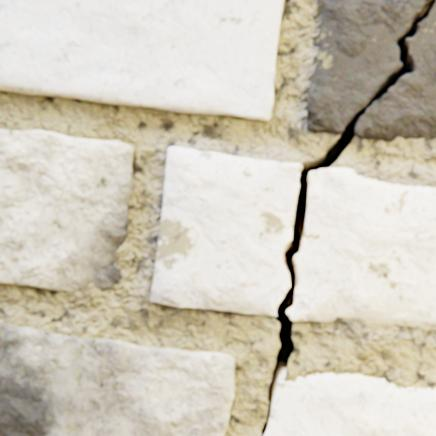brick: (0, 0, 283, 121), (0, 322, 235, 435), (0, 130, 134, 291), (264, 372, 435, 435)
broken_brick: (151, 148, 301, 316), (287, 169, 435, 329), (307, 0, 425, 134), (355, 3, 435, 142)
crack: (262, 0, 435, 435), (335, 312, 340, 319), (262, 309, 267, 314)
